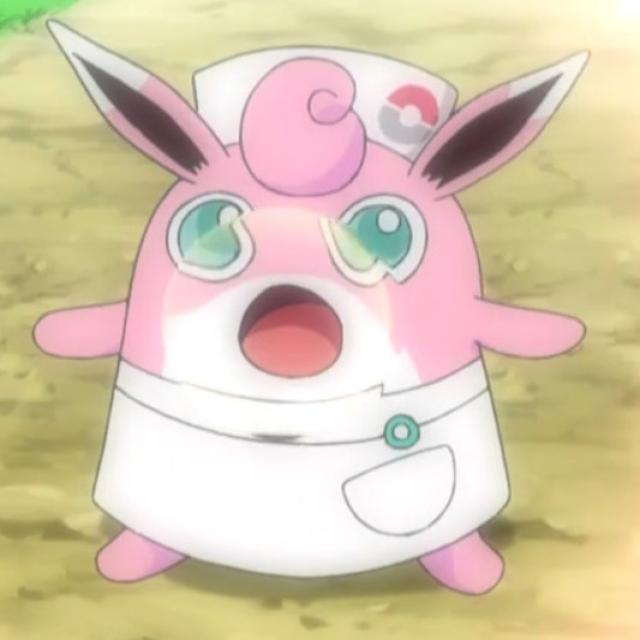Wigglytuff: (86, 66, 514, 591)
